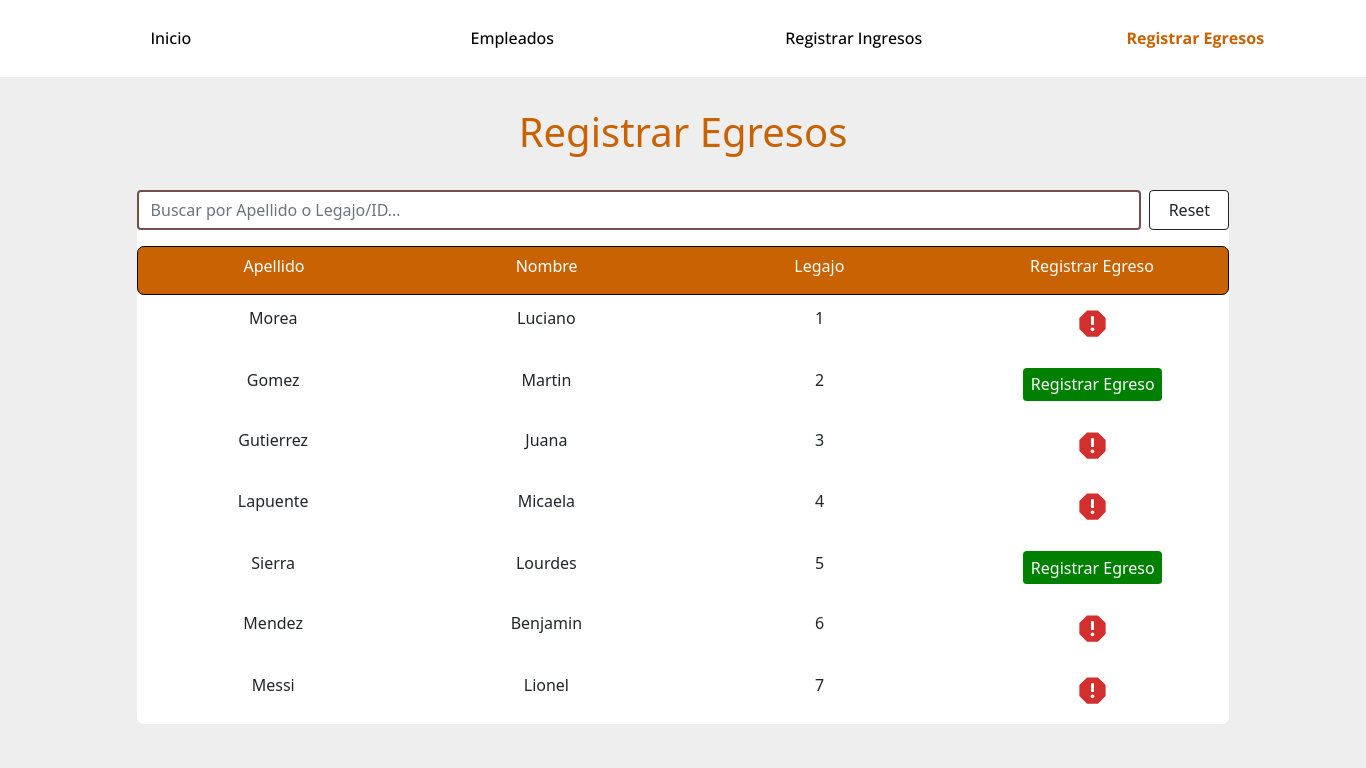
Egresos › reset search
Click the link "Registrar Egresos". click: (1195, 38)
box: [1126,26,1264,50]
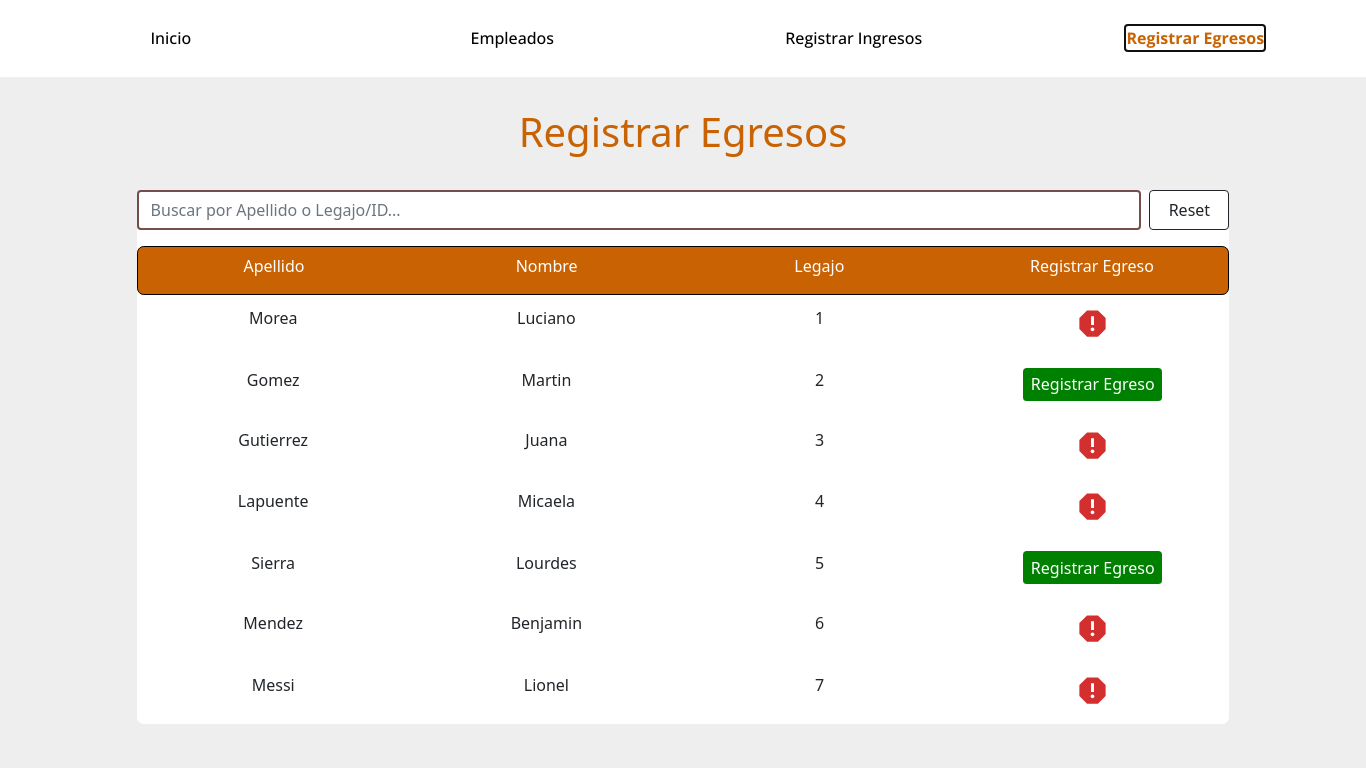
Type "5" into the search field named "search". click: (639, 210)
box: [137,190,1141,230]
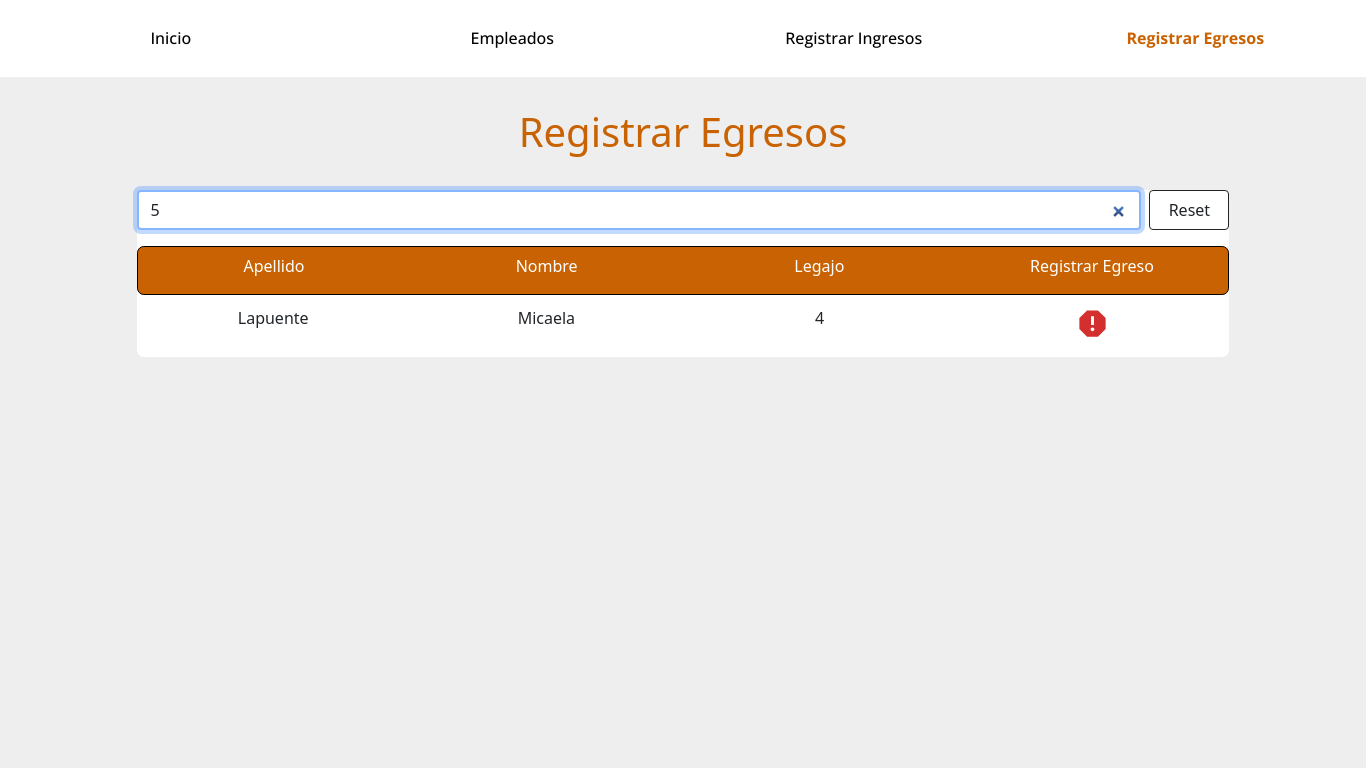
Expected: the text "Lapuente" is shown, [238,307,309,329]
Click the button "Reset". click: (1189, 210)
box: [1149,190,1229,230]
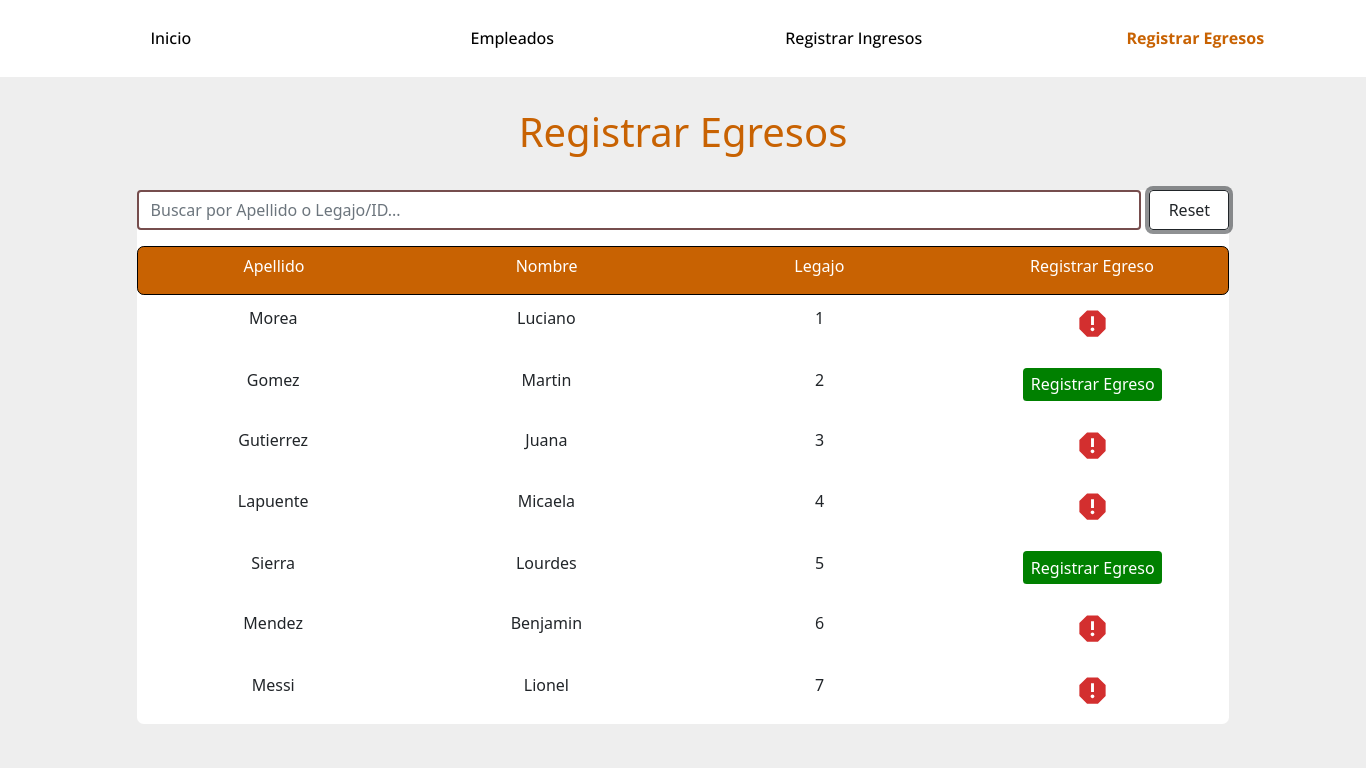
Expected: the text "Lapuente" is shown, [238,490,309,512]
Result: the text "Sierra" is shown at [251,552,295,574]
Result: the text "Morea" is shown at [249,307,297,329]
